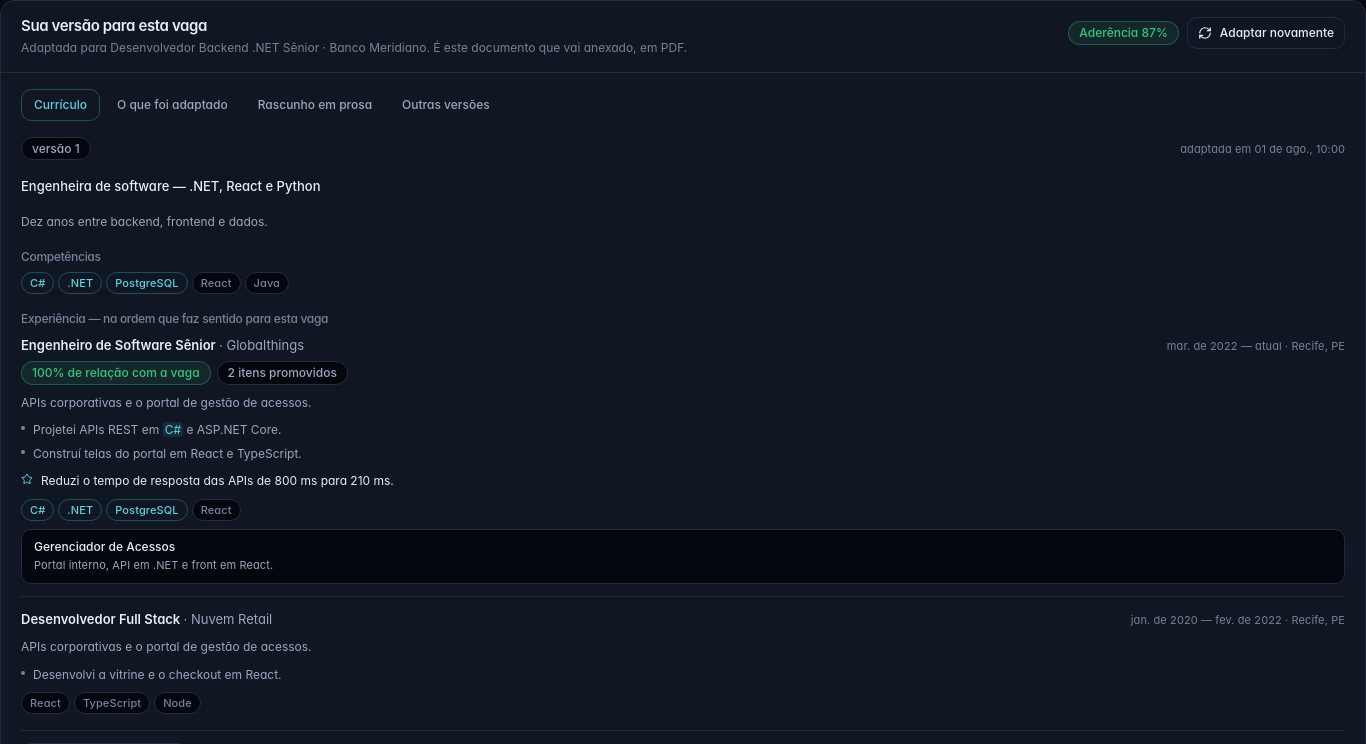
Test case: ApplicationResumePanel change report › still reports a change kind the comparison panel knows nothing about
Check: the text "versão 1" is shown, box [21,137,91,160]
Click the tab "O que foi adaptado". click: [172, 105]
box: [104,89,241,121]
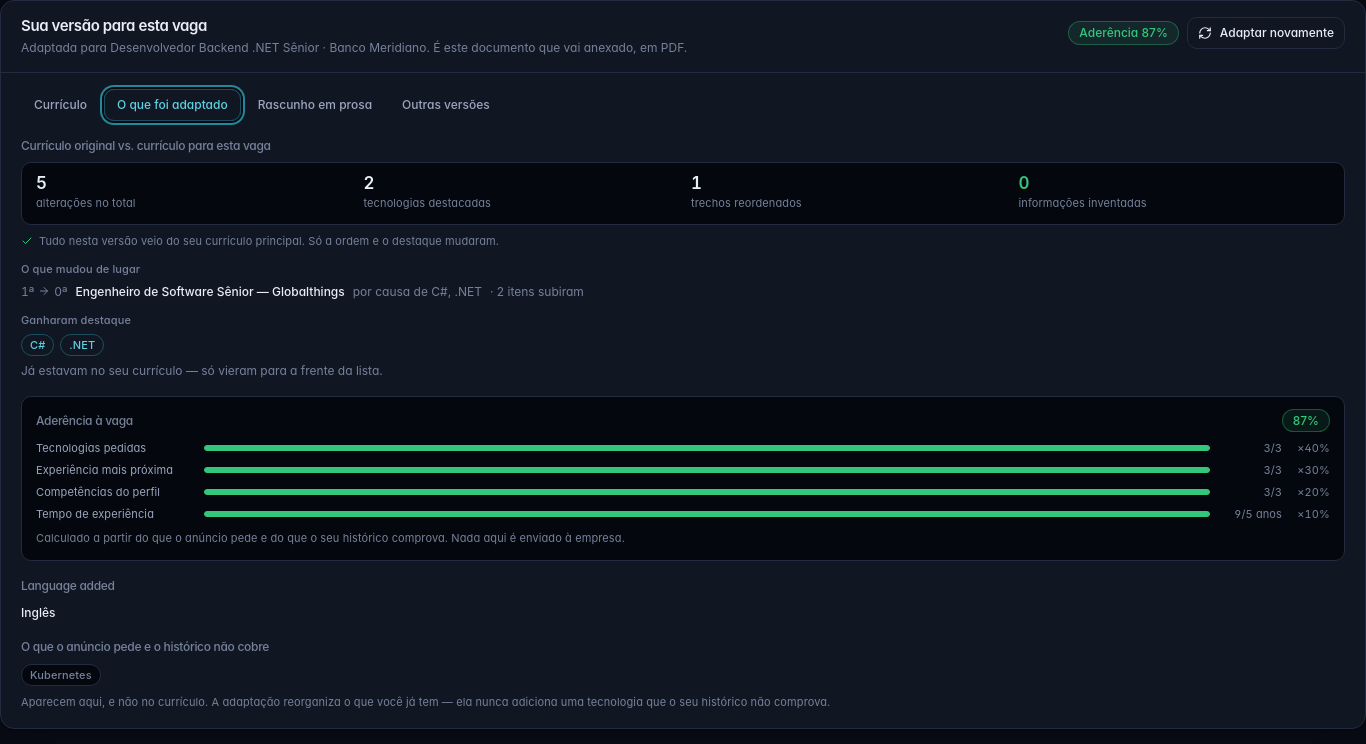
Check: the text "Inglês" is shown, box [21,605,56,620]
